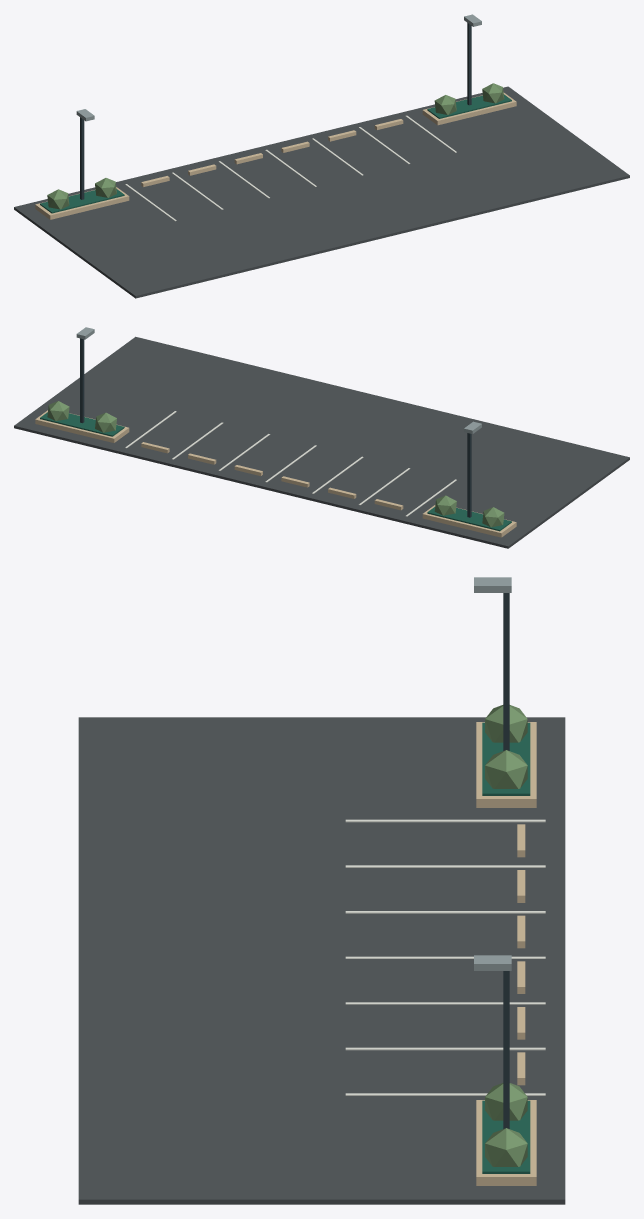
Rendered from parking_small.glb.
3 renders of one model, top to bottom at view 1: azimuth 30°, elevation 25°; view 2: azimuth 150°, elevation 25°; view 3: azimuth 270°, elevation 25°, orthographic. The views are drawn at different scales.
Visible parts, largest first — view 1: parking_small; view 2: parking_small; view 3: parking_small.
Part boxes in pixels (left/top/right/bottom): parking_small: left=14, top=14, right=629, bottom=298; parking_small: left=14, top=327, right=629, bottom=548; parking_small: left=78, top=577, right=565, bottom=1204.
Bounding box in the file's own units: 29.1 × 5.42 × 12.4.
